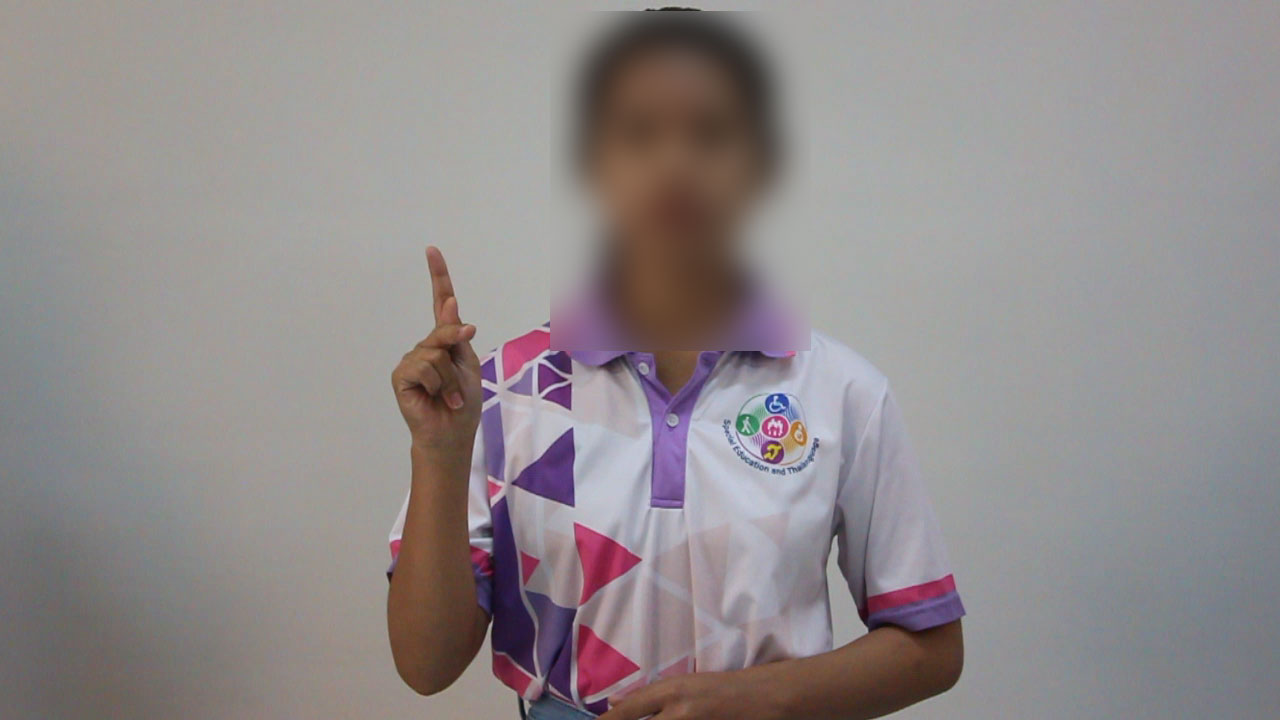ko: (369, 235, 512, 444)
